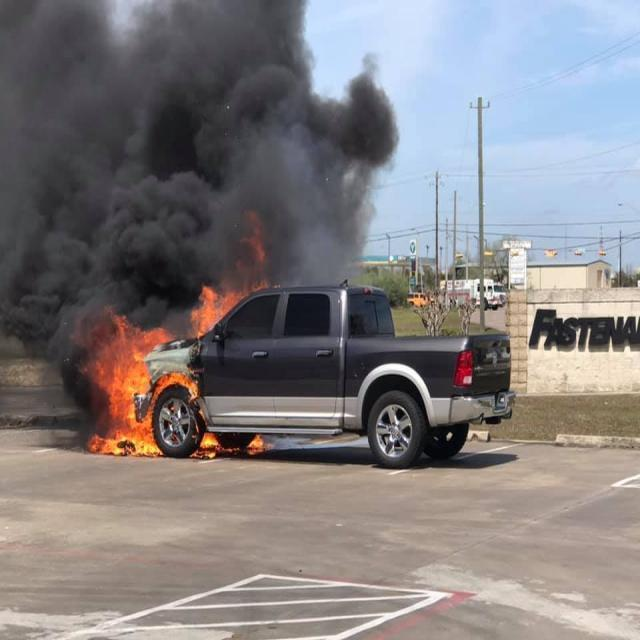Fire: (84, 284, 266, 456), (244, 213, 266, 259)
Smoke: (0, 0, 240, 279), (244, 3, 395, 209), (270, 216, 364, 284), (0, 280, 80, 358)
